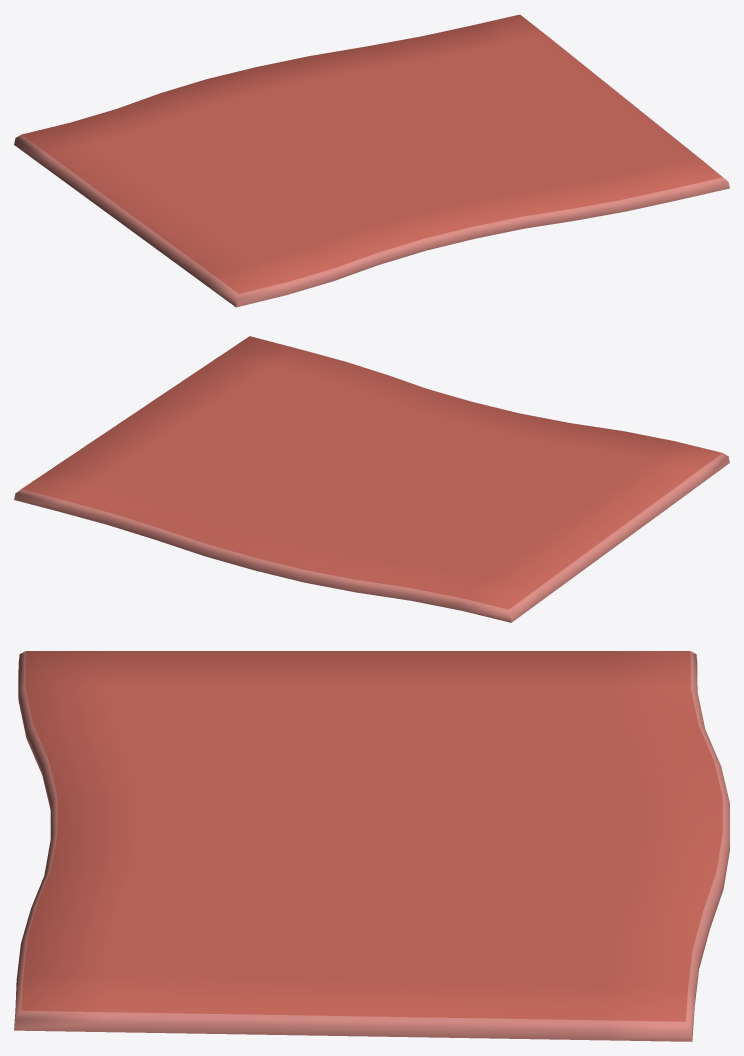
File: itch_tiny_pleasant_picnic_picnic_blanket_red.glb
The picture shows the model from 3 angles, top to bottom: view 1: azimuth 30°, elevation 25°; view 2: azimuth 150°, elevation 25°; view 3: azimuth 270°, elevation 25°; orthographic projection. The views are drawn at different scales.
Parts seen in each view (by area): view 1: picnic_blanket_red; view 2: picnic_blanket_red; view 3: picnic_blanket_red.
Part boxes in pixels (left/top/right/bottom): picnic_blanket_red: left=14, top=14, right=729, bottom=307; picnic_blanket_red: left=14, top=336, right=729, bottom=622; picnic_blanket_red: left=14, top=651, right=729, bottom=1041.
Size of the model in its own units: 0.96 by 0.0192 by 0.768.
